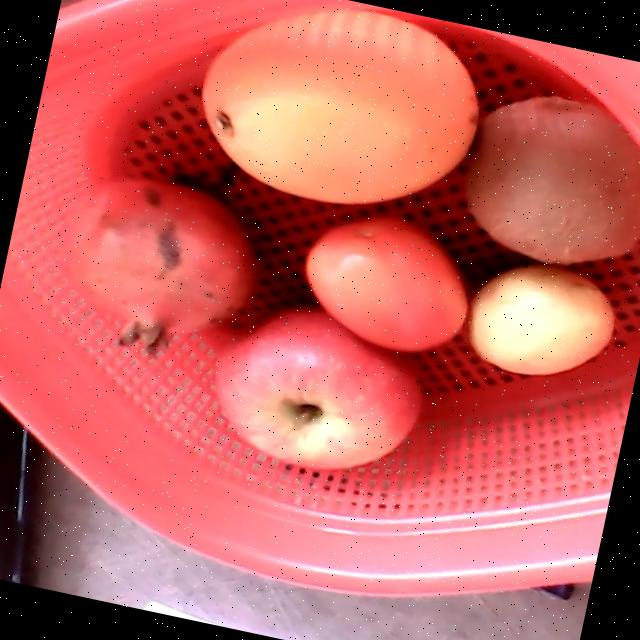apple: (208, 306, 425, 471)
kiwi: (464, 97, 640, 264)
lemon: (468, 263, 614, 376)
orange: (201, 9, 478, 203)
pomegranate: (66, 176, 254, 355)
tomato: (304, 215, 468, 351)
